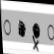correct: (17, 18, 27, 41)
not correct: (29, 18, 43, 52)
